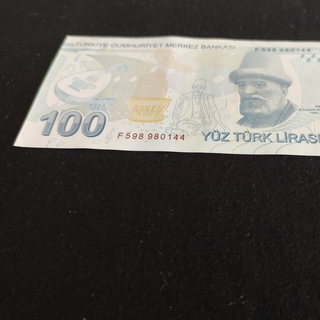100TLBack: (12, 34, 320, 158)
